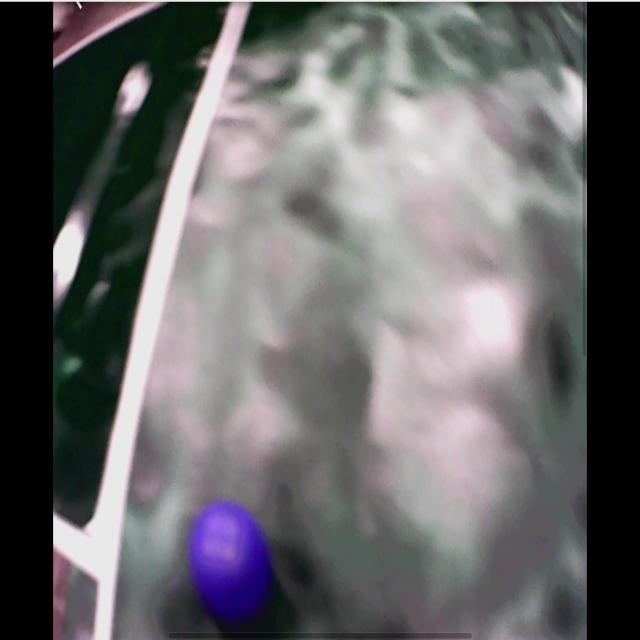ball: (192, 500, 269, 629)
